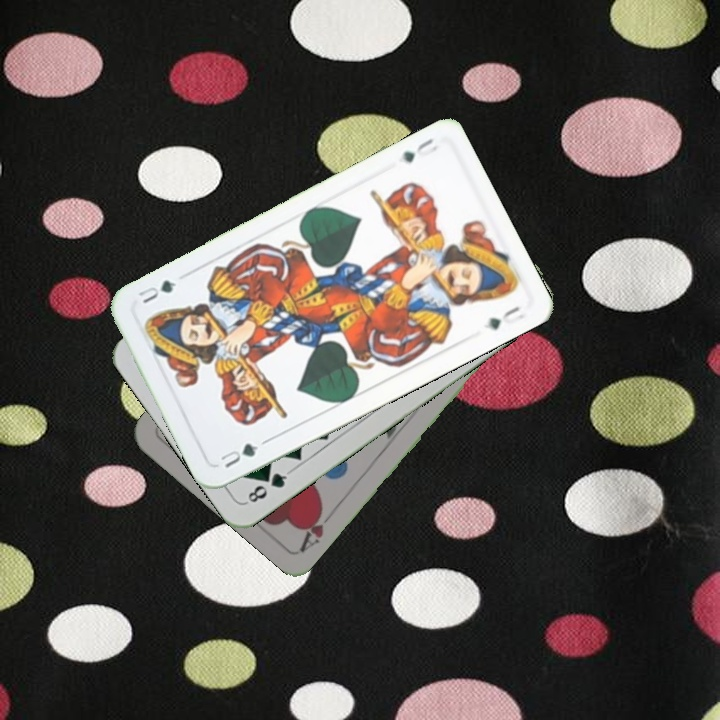G8: (242, 466, 293, 506)
GU: (215, 439, 261, 471), (399, 133, 441, 166)
HA: (296, 503, 339, 554)
